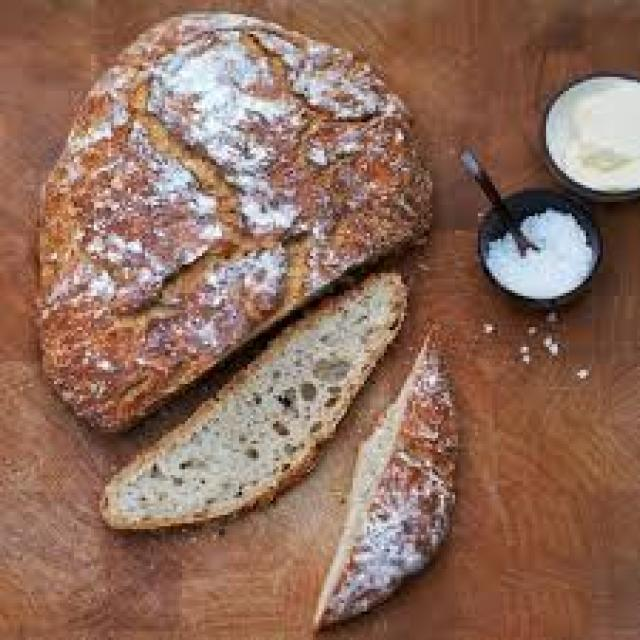food_waste: (43, 11, 427, 526), (316, 336, 452, 623)
